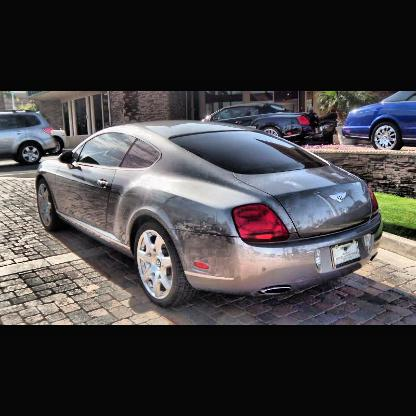Bentley Continental GT Coupe 2007: (37, 122, 383, 307)
